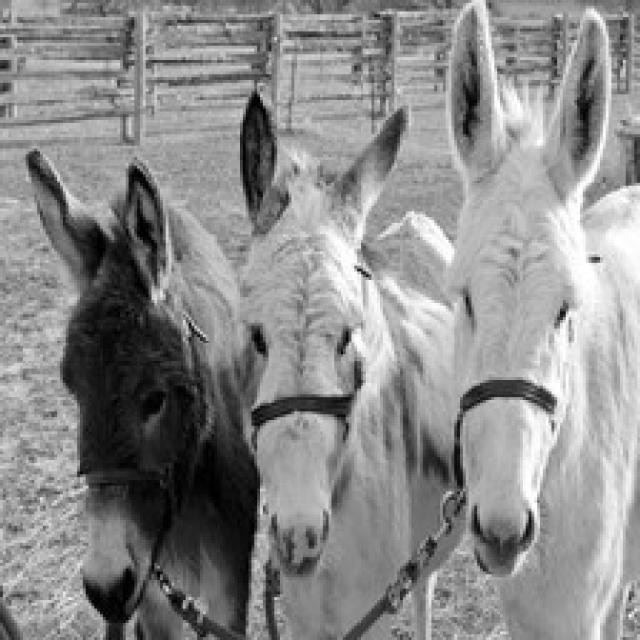Donkey: (234, 80, 466, 637), (443, 0, 637, 637), (23, 146, 257, 637), (580, 177, 637, 637)
